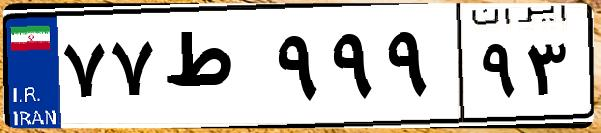3: (525, 38, 570, 115)
7: (57, 26, 110, 100), (110, 28, 158, 98)
9: (270, 28, 330, 110), (385, 28, 445, 110), (330, 28, 385, 110), (475, 38, 525, 113)
ط: (158, 20, 270, 120)
